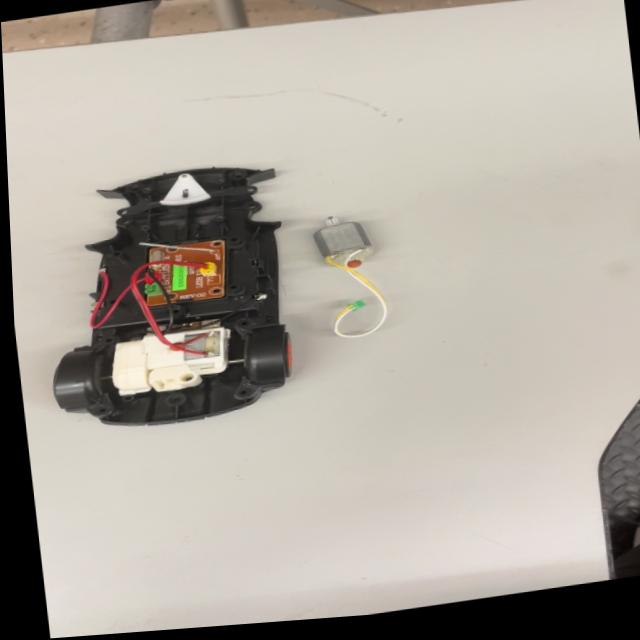Chassis: (33, 157, 303, 440)
motor: (301, 203, 384, 281)
